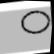no answer: (18, 8, 53, 38)
